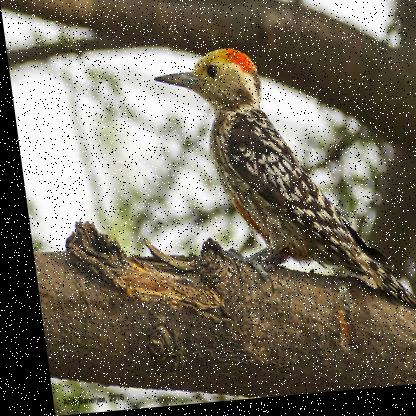Burung: (148, 38, 415, 337)
